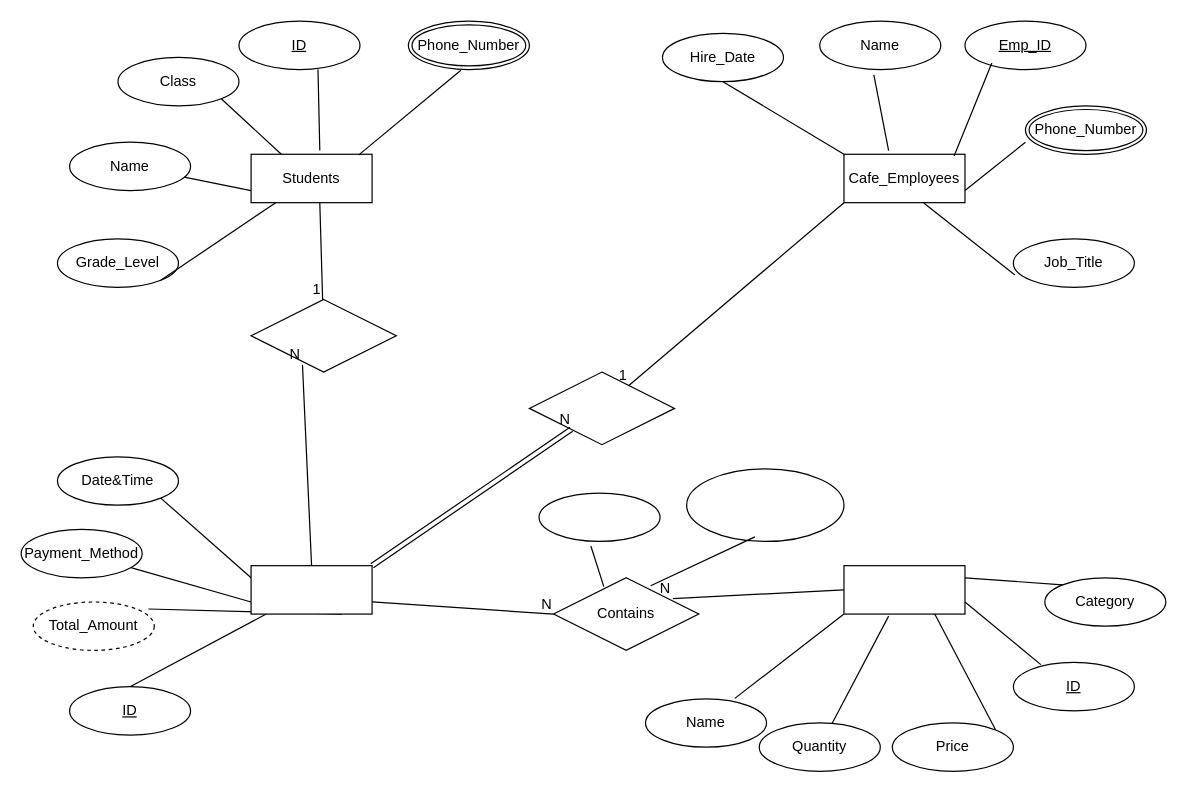
Image size: 1187x793. Some labels were removed from this diagram. Here are the shapes that lost their labels. From the top down, the centre of each, then its label:
At (x=323, y=335): "Buys".
At (x=601, y=408): "Handles".
At (x=599, y=516): "Current_Price".
At (x=764, y=504): "Quantity_Needed".
At (x=311, y=589): "Orders".
At (x=904, y=589): "Menu_Items".
